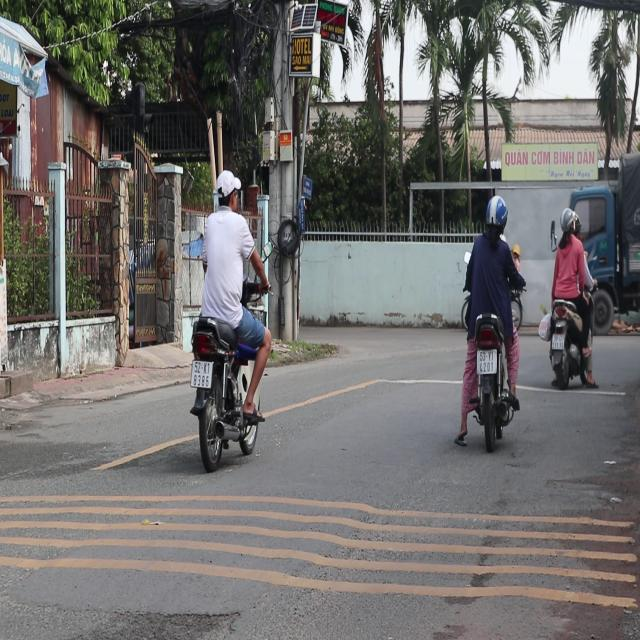helmet: (483, 193, 507, 237), (558, 205, 576, 239)
licenseplate: (185, 164, 271, 468), (454, 194, 523, 450), (546, 206, 595, 388)
motorcyclist: (214, 168, 242, 210)
nohelmet: (190, 360, 213, 388), (477, 349, 497, 373), (552, 334, 564, 349)
